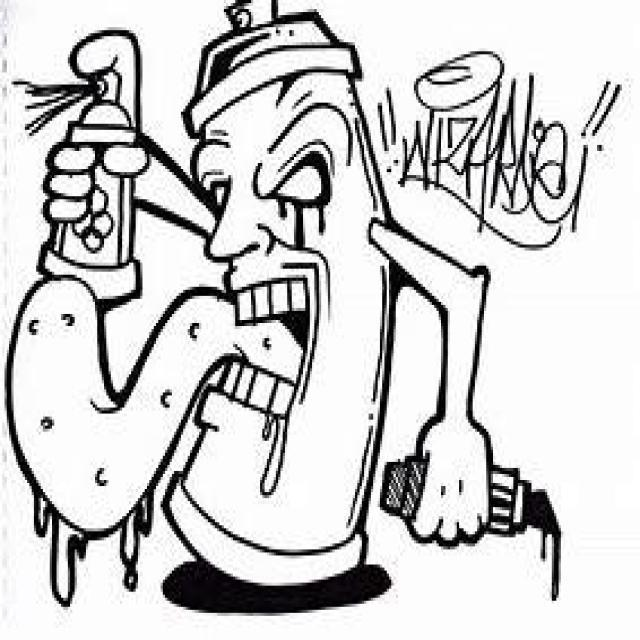nonspitting: (376, 48, 620, 251)
spitting: (4, 0, 564, 617)
